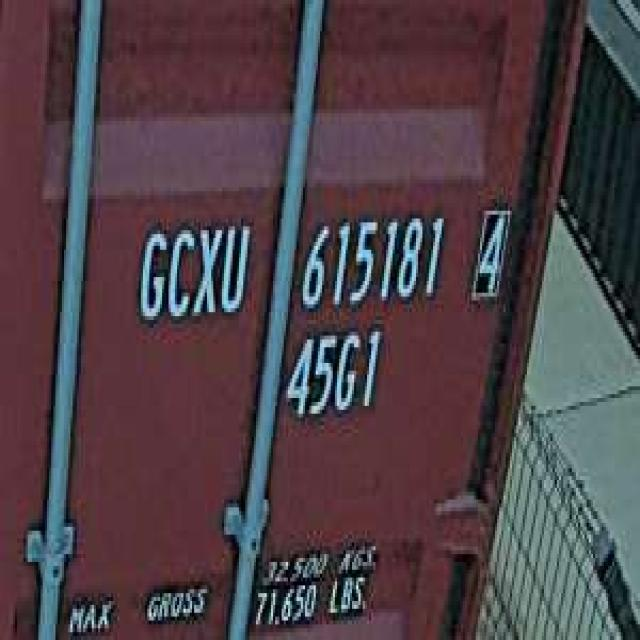dv: (467, 191, 512, 312)
owner: (132, 210, 252, 332)
serial: (294, 203, 448, 320)
size: (282, 320, 386, 425)
